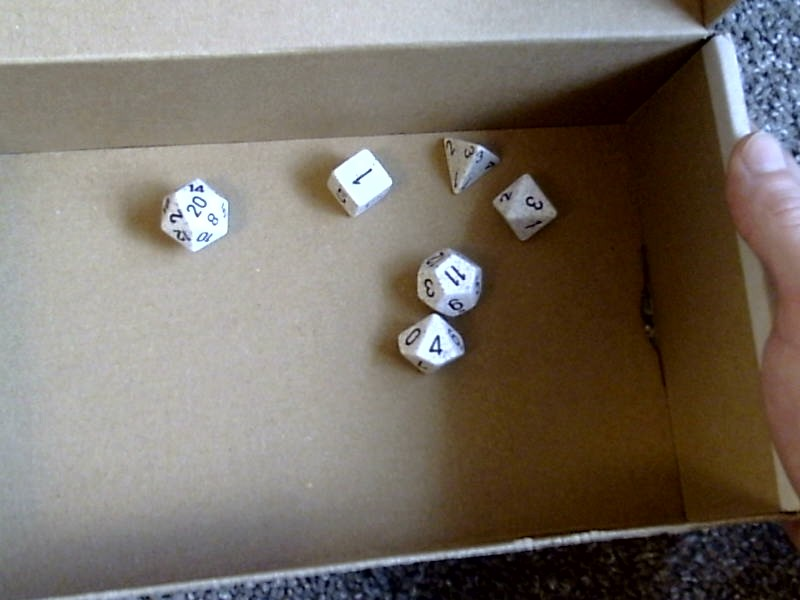d10 4: (389, 311, 472, 385)
d12 11: (414, 241, 493, 318)
d20 20: (154, 176, 239, 256)
d4 3: (431, 126, 502, 196)
d6 1: (317, 143, 396, 227)
d8 3: (486, 171, 575, 242)
